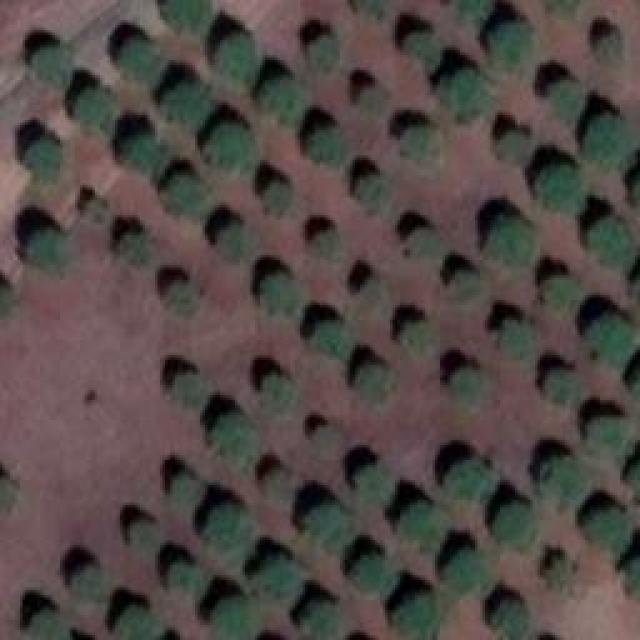Tree: (385, 585, 438, 640), (157, 80, 215, 130), (205, 123, 258, 176), (248, 553, 298, 608), (583, 110, 633, 165), (583, 505, 636, 555), (585, 218, 635, 271), (540, 452, 585, 510), (300, 502, 353, 550), (397, 500, 445, 553), (533, 165, 586, 213), (490, 215, 540, 265), (585, 315, 635, 363), (445, 68, 493, 118), (490, 23, 533, 78), (202, 500, 250, 548), (440, 545, 485, 595), (20, 225, 65, 273), (210, 595, 258, 640), (490, 500, 535, 548), (585, 417, 630, 465), (537, 368, 585, 413), (157, 173, 205, 216), (255, 75, 303, 118), (480, 595, 525, 640), (305, 318, 350, 363), (115, 38, 158, 83), (300, 595, 343, 640), (445, 458, 490, 501), (498, 320, 541, 365), (400, 123, 445, 166), (25, 135, 65, 183), (450, 367, 490, 415), (215, 35, 255, 83), (212, 410, 250, 458), (125, 135, 170, 175), (158, 278, 203, 318), (263, 270, 303, 313), (540, 78, 583, 118), (75, 85, 113, 130), (260, 370, 298, 415), (115, 605, 163, 640), (352, 548, 390, 591), (357, 368, 395, 411), (540, 275, 578, 318), (30, 45, 70, 85), (447, 270, 485, 310), (115, 233, 158, 268), (540, 558, 575, 601), (300, 125, 343, 160), (160, 0, 207, 32), (495, 130, 533, 168), (75, 560, 108, 603), (353, 465, 393, 500), (400, 320, 435, 360), (162, 473, 200, 508), (402, 33, 440, 68), (170, 370, 203, 410), (168, 557, 201, 595), (308, 37, 341, 75), (593, 32, 626, 70), (123, 518, 158, 553), (308, 230, 343, 265), (27, 607, 62, 640), (215, 222, 245, 260), (622, 453, 640, 513), (360, 280, 390, 315), (355, 173, 385, 208), (307, 420, 335, 455), (408, 227, 443, 255), (263, 180, 293, 210), (360, 85, 390, 115), (625, 542, 640, 600), (262, 465, 290, 495), (80, 200, 110, 223), (0, 478, 15, 513)
